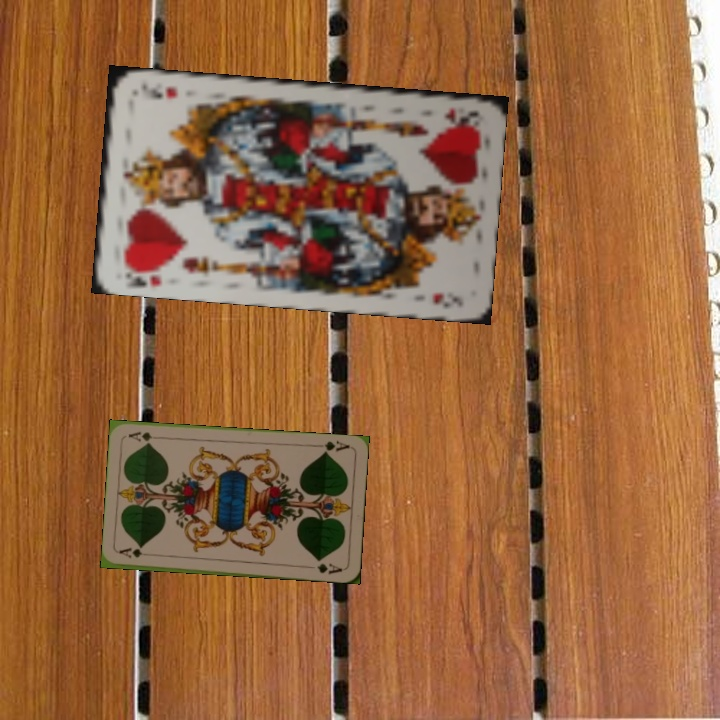GA: (312, 437, 352, 456), (116, 545, 157, 560)
HK: (120, 260, 170, 290), (440, 104, 481, 128)
